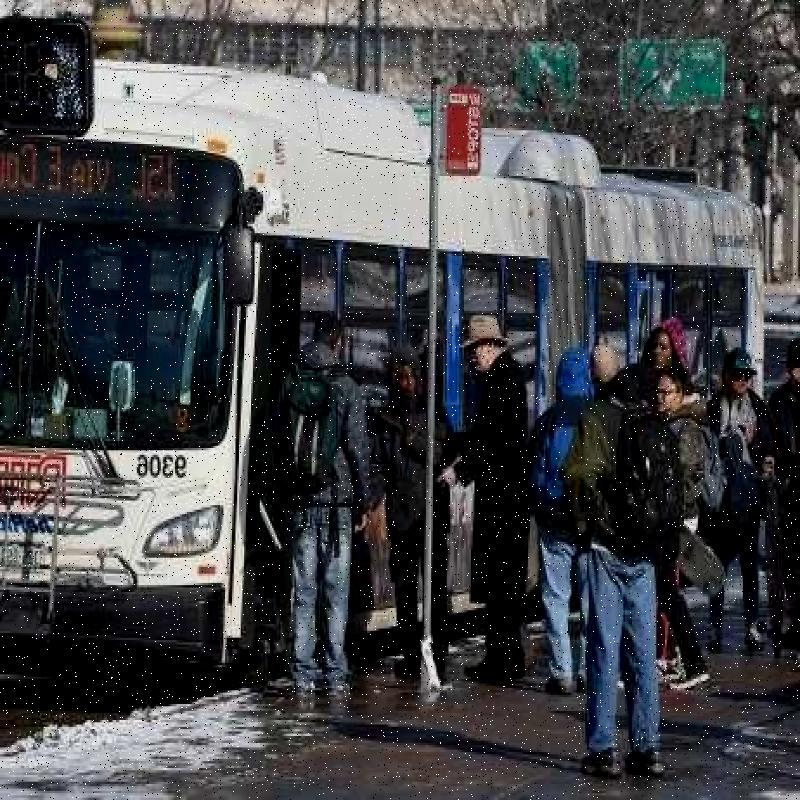bus: (0, 72, 751, 630)
